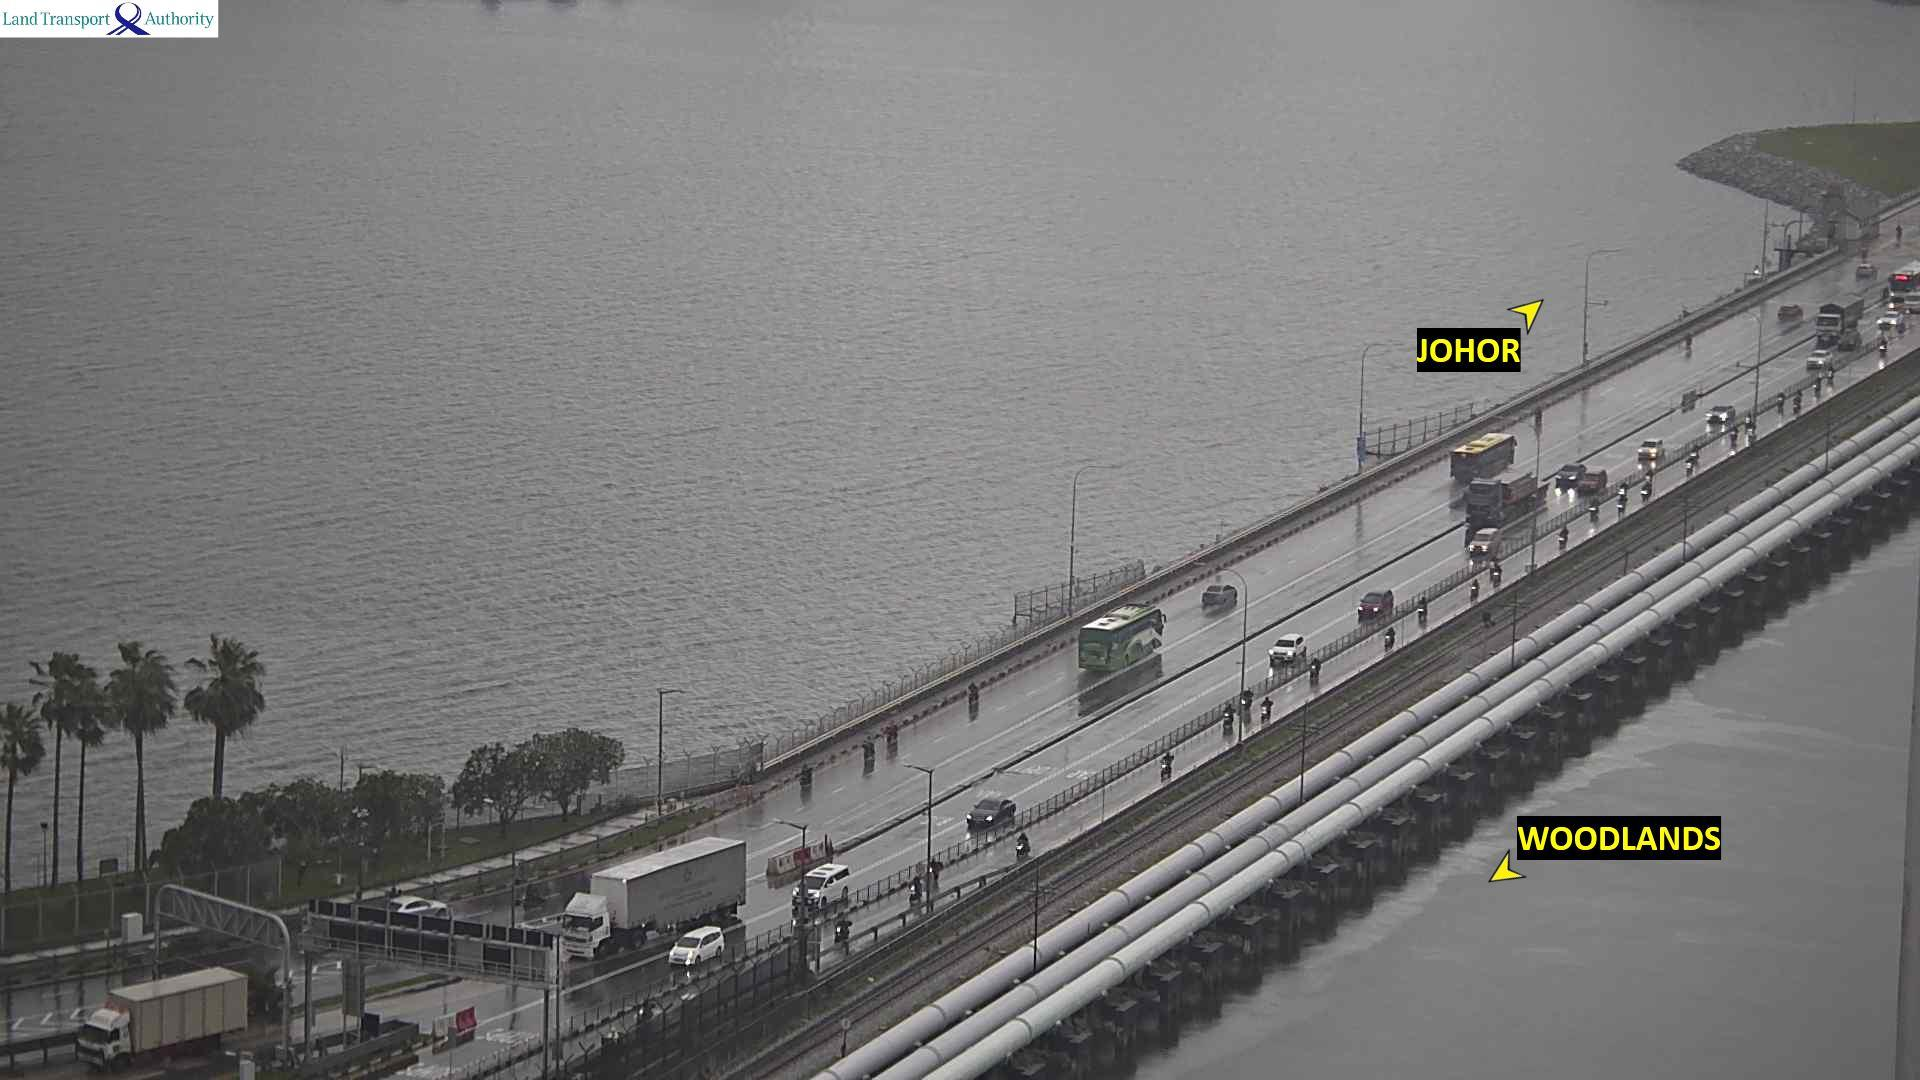vehicle-causeway-johor: (1079, 607, 1163, 670), (1453, 435, 1516, 464), (1197, 585, 1237, 605), (1778, 302, 1808, 319), (865, 736, 876, 761), (885, 723, 898, 742), (802, 761, 811, 786), (967, 682, 977, 703)
vehicle-causeway-singapore: (87, 971, 290, 1054), (566, 864, 742, 949), (1465, 472, 1545, 516), (666, 928, 736, 965), (791, 865, 848, 907), (1820, 297, 1876, 335), (968, 799, 1017, 828), (1269, 633, 1305, 663), (1360, 589, 1393, 618), (1470, 529, 1502, 554), (1577, 468, 1607, 492), (1556, 464, 1585, 484), (1638, 439, 1663, 459), (1706, 405, 1735, 421), (1804, 352, 1830, 368), (833, 915, 851, 938), (1015, 832, 1031, 855), (910, 874, 920, 902), (1160, 753, 1174, 774), (1261, 698, 1274, 719), (1727, 423, 1739, 444), (1244, 688, 1254, 709), (1590, 497, 1602, 516), (1224, 704, 1232, 731), (1418, 597, 1427, 620), (1309, 658, 1320, 676), (1386, 628, 1395, 649), (1557, 527, 1568, 546), (1472, 579, 1480, 600), (1493, 566, 1501, 584), (1642, 484, 1650, 502), (1776, 392, 1784, 410), (1685, 460, 1696, 473), (1691, 444, 1700, 459), (1617, 500, 1625, 516), (1793, 397, 1800, 413), (1621, 481, 1627, 496), (1815, 377, 1821, 392)
